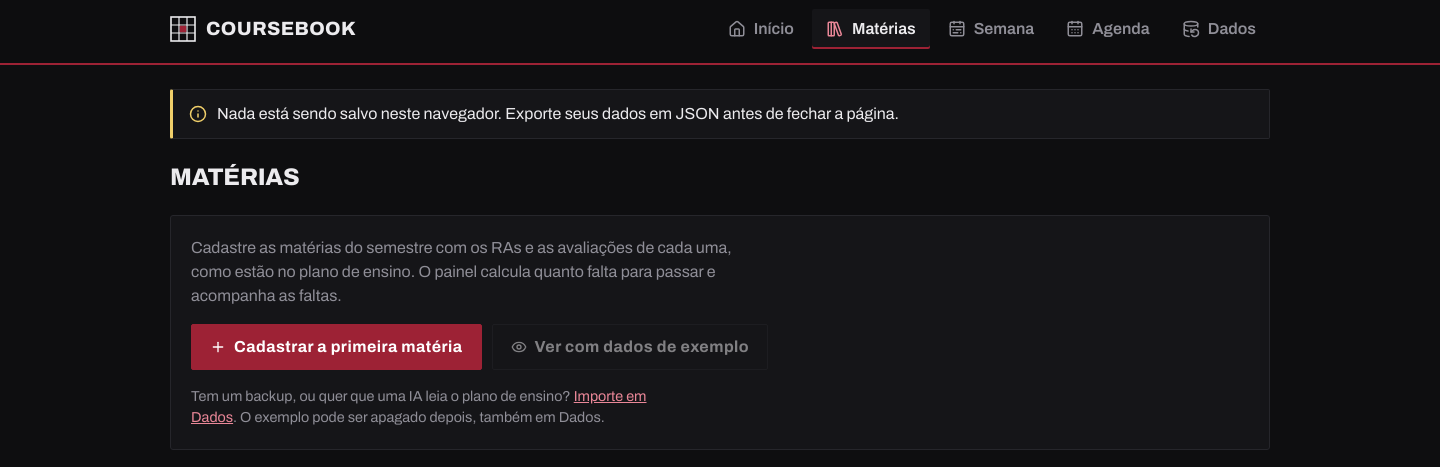
Test case: App › tem a aba da semana entre Matérias e Agenda
Click the link "Semana": (991, 29) [948,20,1034,38]
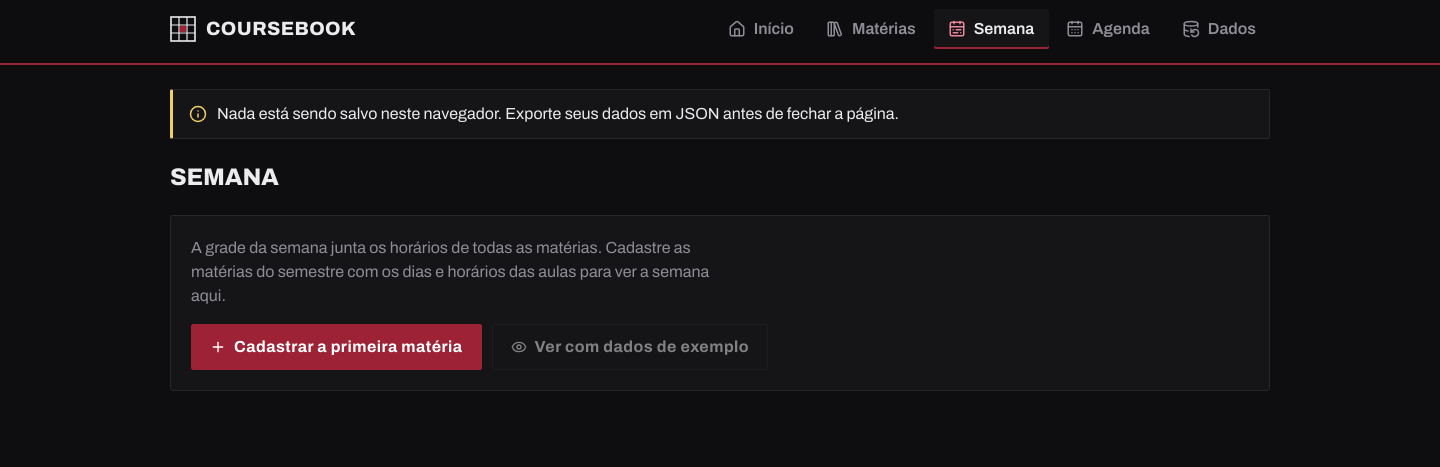
Check: the heading "Semana" is shown, box [170,164,279,190]
